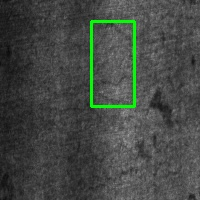crazing: (91, 21, 134, 106)
